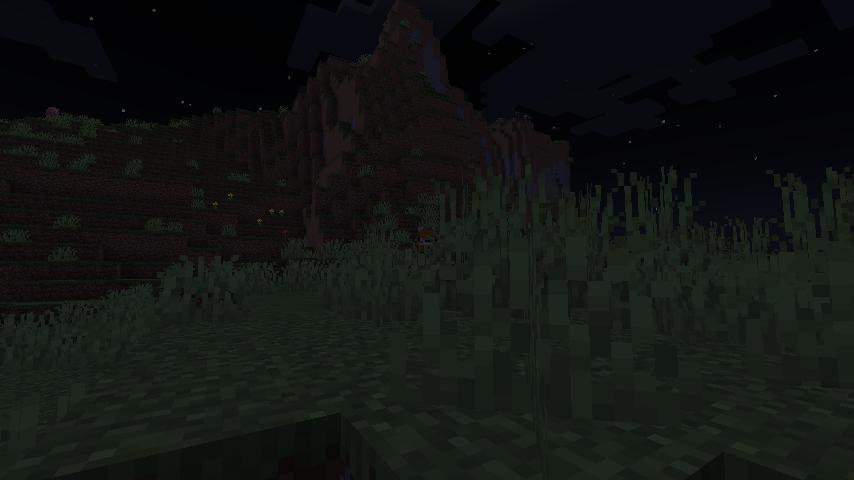cow: (523, 114, 532, 123)
fox: (415, 224, 442, 256)
pig: (44, 105, 62, 121)
